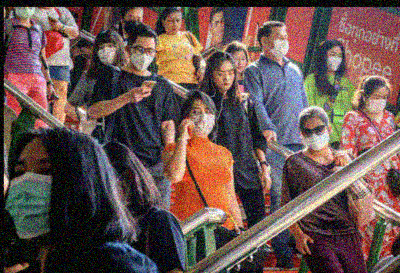with_mask: (5, 155, 53, 239), (187, 105, 216, 137), (301, 123, 330, 151), (129, 43, 155, 73), (268, 31, 290, 58), (366, 92, 389, 114), (96, 42, 117, 65), (123, 13, 144, 34), (326, 49, 344, 72), (14, 7, 36, 19)
without_mask: (213, 67, 236, 90), (164, 15, 182, 34), (233, 54, 247, 73)
